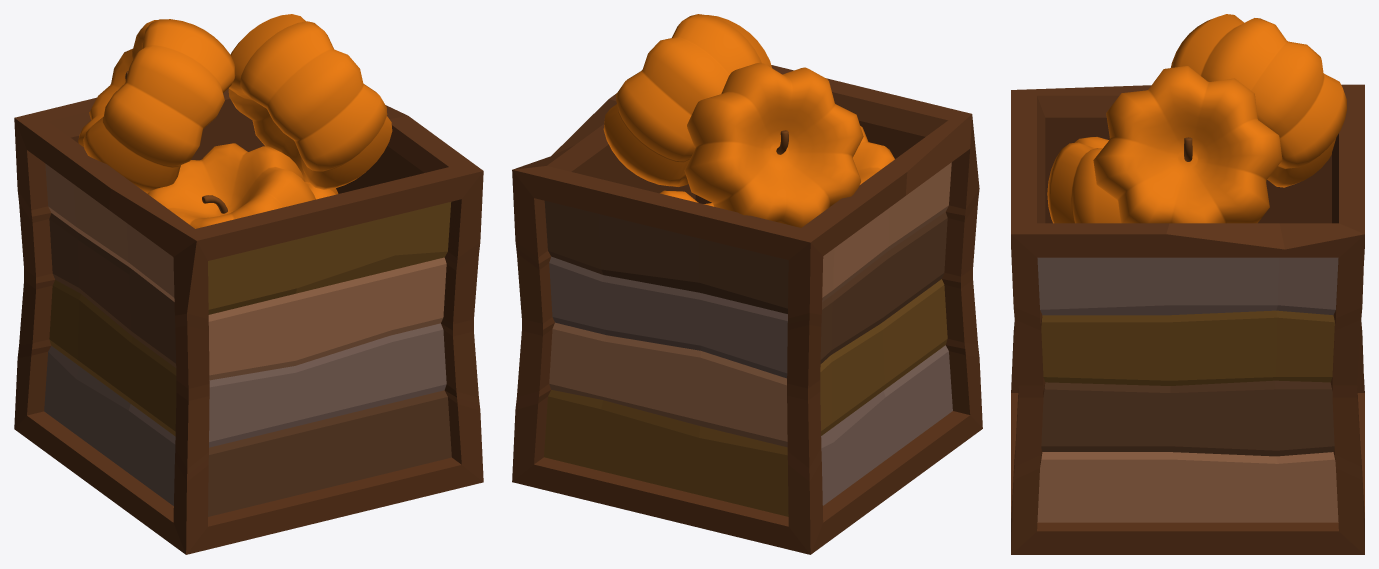
The model's file is Crate with pumpkins.fbx.
The picture shows the model from 3 angles, left to right: view 1: azimuth 30°, elevation 25°; view 2: azimuth 150°, elevation 25°; view 3: azimuth 270°, elevation 25°; orthographic projection. The views are drawn at different scales.
Parts seen in each view (by area): view 1: Crate with crops, Pumpkin.005, Pumpkin.006, Pumpkin.004; view 2: Crate with crops, Pumpkin.006, Pumpkin.005, Pumpkin.004; view 3: Crate with crops, Pumpkin.005, Pumpkin.006, Pumpkin.004.
Boxes of the visible parts, box(x1,y1,x2,y2) form: Crate with crops: box(14, 88, 483, 554); Pumpkin.005: box(228, 14, 392, 189); Pumpkin.006: box(78, 19, 235, 193); Pumpkin.004: box(147, 143, 315, 228); Crate with crops: box(512, 65, 982, 554); Pumpkin.006: box(684, 62, 863, 227); Pumpkin.005: box(603, 14, 771, 186); Pumpkin.004: box(853, 126, 894, 184); Crate with crops: box(1011, 84, 1364, 554); Pumpkin.005: box(1093, 66, 1282, 223); Pumpkin.006: box(1171, 14, 1346, 187); Pumpkin.004: box(1047, 137, 1120, 223).
Size of the model in its own units: 200 by 270 by 200.
